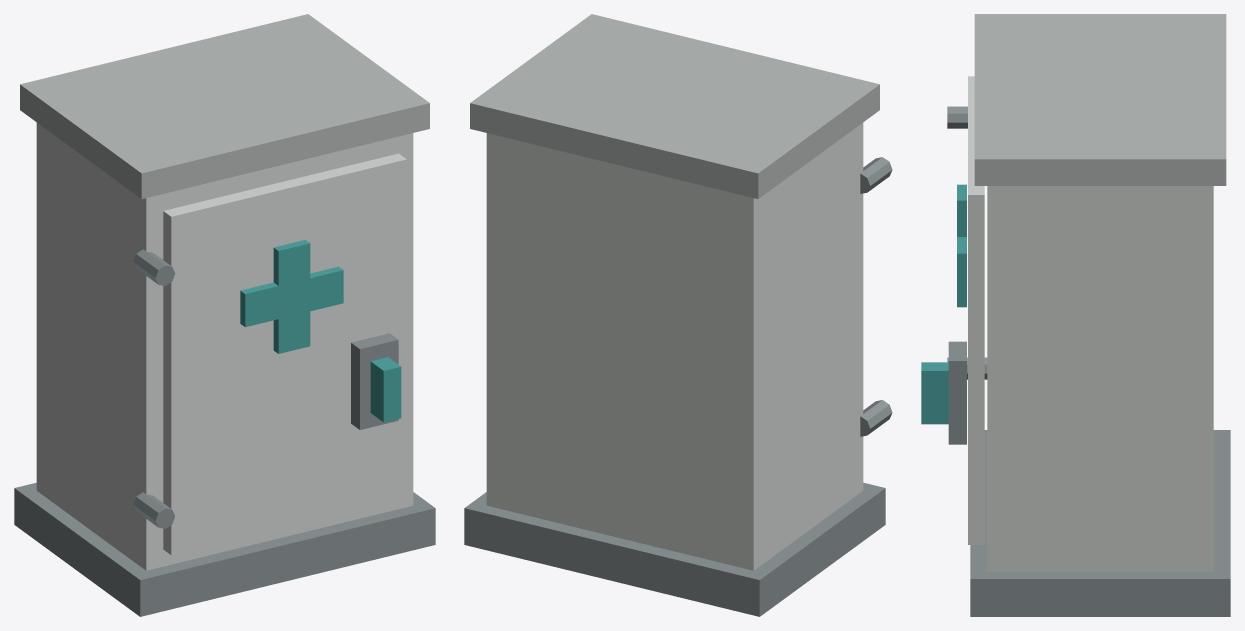
File: medical_cabinet.glb
The picture shows the model from 3 angles, left to right: view 1: azimuth 30°, elevation 25°; view 2: azimuth 150°, elevation 25°; view 3: azimuth 270°, elevation 25°; orthographic projection. The views are drawn at different scales.
Visible parts, largest first — view 1: medcab_door, medcab_body, medcab_top, medcab_base, medcab_cross_vertical, medcab_cross_horizontal, medcab_handle_mount, medcab_handle, medcab_hinge_1, medcab_hinge_0; view 2: medcab_body, medcab_top, medcab_base, medcab_hinge_1, medcab_hinge_0; view 3: medcab_body, medcab_top, medcab_base, medcab_door, medcab_handle_mount, medcab_handle, medcab_cross_vertical, medcab_cross_horizontal, medcab_hinge_1.
Part boxes in pixels (x1,y1,x2,y2): medcab_door: (163, 153, 406, 555); medcab_body: (36, 122, 413, 570); medcab_top: (20, 14, 429, 198); medcab_base: (14, 482, 435, 616); medcab_cross_vertical: (273, 240, 310, 353); medcab_cross_horizontal: (240, 266, 343, 327); medcab_handle_mount: (351, 333, 398, 429); medcab_handle: (370, 357, 401, 422); medcab_hinge_1: (133, 249, 175, 285); medcab_hinge_0: (133, 492, 175, 528); medcab_body: (486, 122, 863, 570); medcab_top: (470, 14, 879, 198); medcab_base: (464, 482, 885, 616); medcab_hinge_1: (860, 157, 892, 193); medcab_hinge_0: (860, 400, 892, 436); medcab_body: (987, 186, 1213, 571); medcab_top: (974, 14, 1226, 185); medcab_base: (970, 430, 1230, 616); medcab_door: (968, 76, 984, 544); medcab_handle_mount: (948, 341, 966, 444); medcab_handle: (921, 362, 948, 424); medcab_cross_vertical: (957, 184, 966, 307); medcab_cross_horizontal: (957, 237, 966, 287); medcab_hinge_1: (947, 106, 967, 128).
Size of the model in its own units: 0.42 by 0.5995 by 0.3685.
